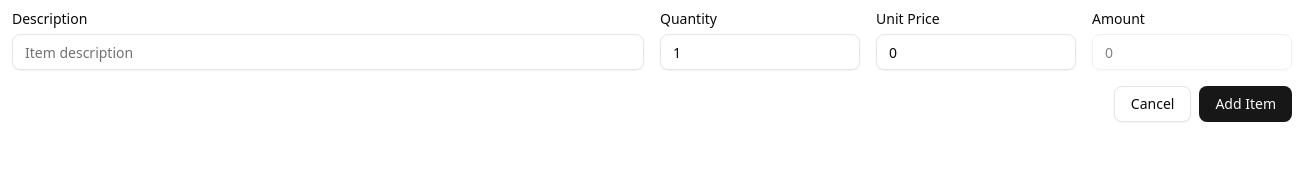
Test case: QuoteItemForm › calculates amount automatically when quantity or unit price changes
# Change quantity to 5
Replace the text in the number field labelled "Quantity" with "5" at point(760, 52), box x1=660 y1=34 x2=860 y2=70
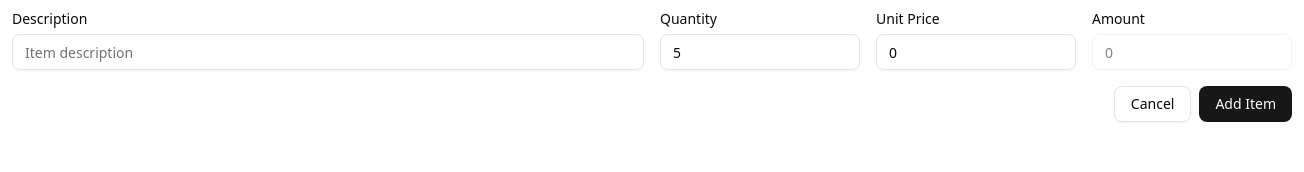
# Change unit price to 10
Replace the text in the number field labelled "Unit Price" with "10" at point(976, 52), box x1=876 y1=34 x2=1076 y2=70
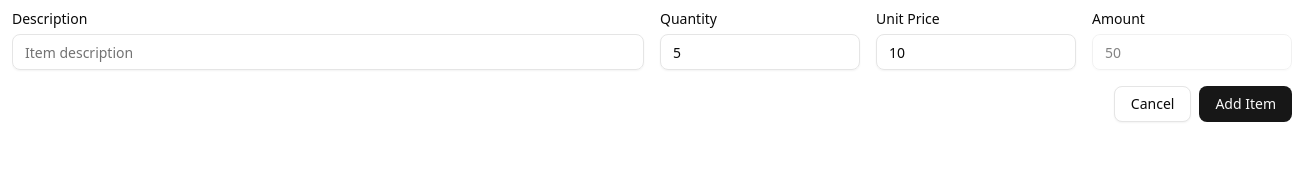
Result: the number field labelled "Amount" holds "50" at x1=1092 y1=34 x2=1292 y2=70
# Update unit price to 20
Replace the text in the number field labelled "Unit Price" with "20" at point(976, 52), box x1=876 y1=34 x2=1076 y2=70
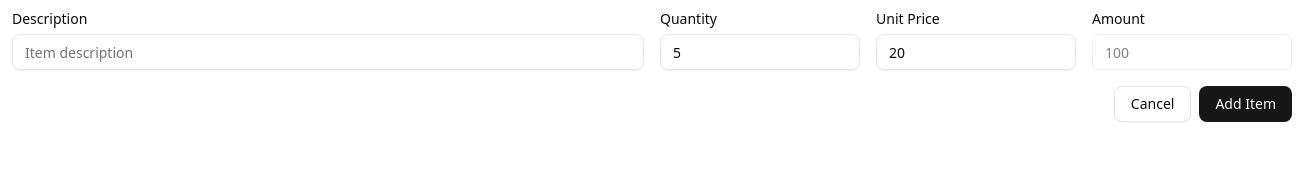
Result: the number field labelled "Amount" holds "100" at x1=1092 y1=34 x2=1292 y2=70
